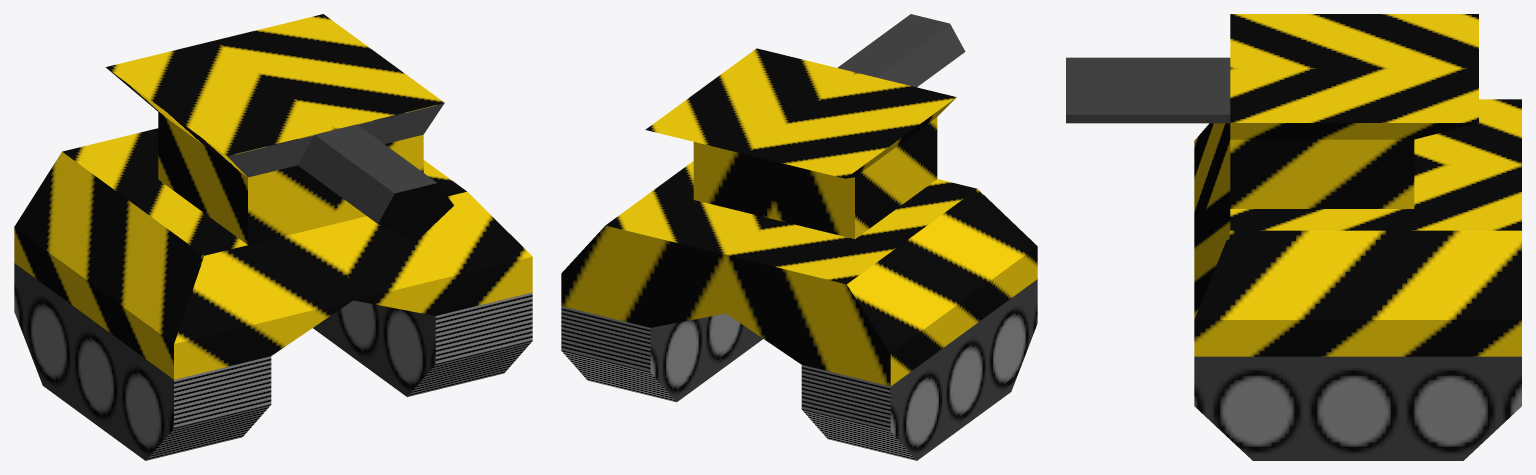
File: small_enemy.glb
The picture shows the model from 3 angles, left to right: view 1: azimuth 30°, elevation 25°; view 2: azimuth 150°, elevation 25°; view 3: azimuth 270°, elevation 25°; orthographic projection. The views are drawn at different scales.
Visible parts, largest first — view 1: Cube; view 2: Cube; view 3: Cube.
Boxes of the visible parts, x1,y1,x2,y2 form: Cube: (14,14,532,460); Cube: (561,14,1037,460); Cube: (1066,14,1521,460).
Bounding box in the file's own units: 4.03 × 3.17 × 4.33.
Materials: 1 (1 with a texture image).
